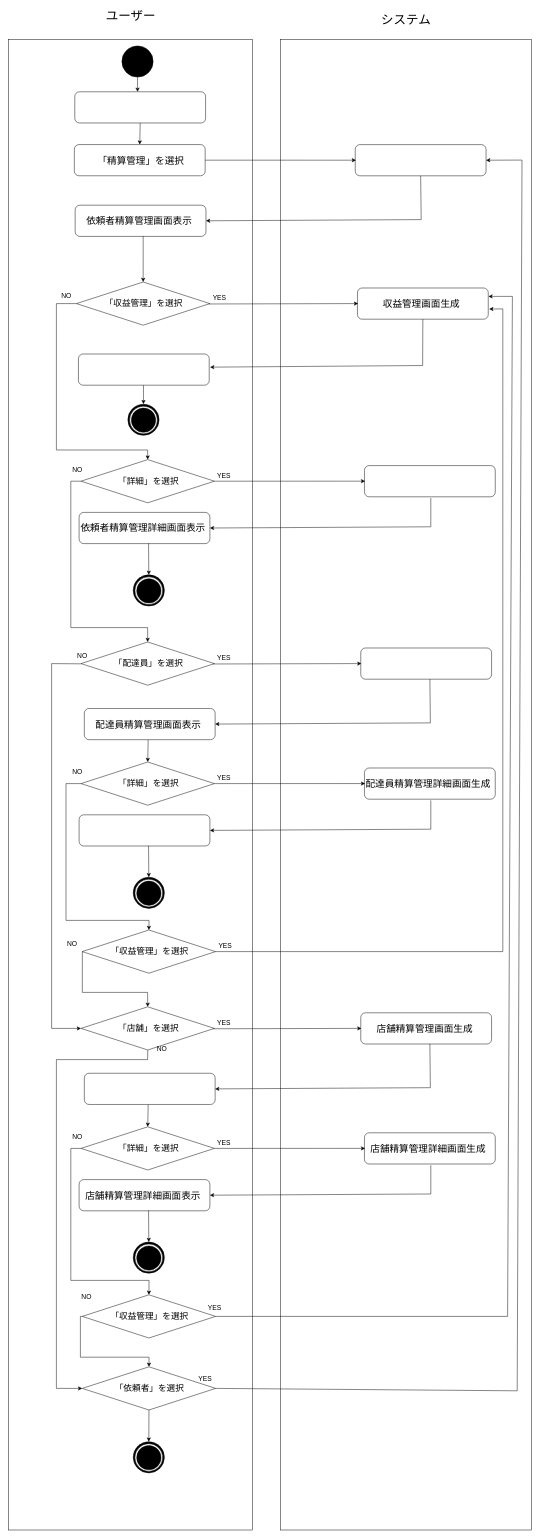
The diagram is 540 pixels wide and 1538 high, and some of its shapes have lost their labels. Each missing label, with the centre of its shape:
"依頼者精算管理画面生成" belongs at pixel 420 160.
"依頼者精算管理詳細画面生成" belongs at pixel 429 481.
"収益管理画面表示" belongs at pixel 143 369.
"店舗精算管理画面表示" belongs at pixel 149 1088.
"運営管理画面表示" belongs at pixel 140 107.
"配達員精算管理画面生成" belongs at pixel 426 663.
"配達員精算管理詳細画面表示" belongs at pixel 144 830.
